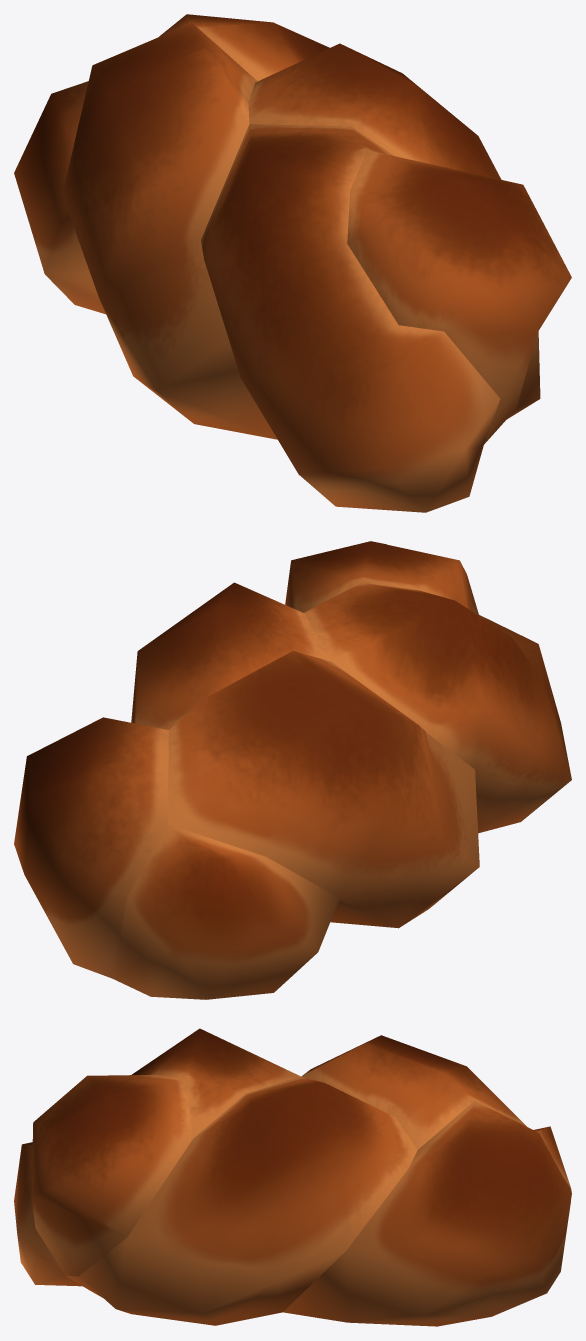
File: Challah.fbx
3 renders of one model, top to bottom at view 1: azimuth 30°, elevation 25°; view 2: azimuth 150°, elevation 25°; view 3: azimuth 270°, elevation 25°, orthographic. The views are drawn at different scales.
Parts seen in each view (by area): view 1: Challah; view 2: Challah; view 3: Challah.
Boxes of the visible parts, x1=… form: Challah: x1=14, y1=14, x2=571, y2=512; Challah: x1=14, y1=541, x2=571, y2=999; Challah: x1=14, y1=1028, x2=571, y2=1326.
Bounding box in the file's own units: 37.09 × 31.58 × 67.96.
